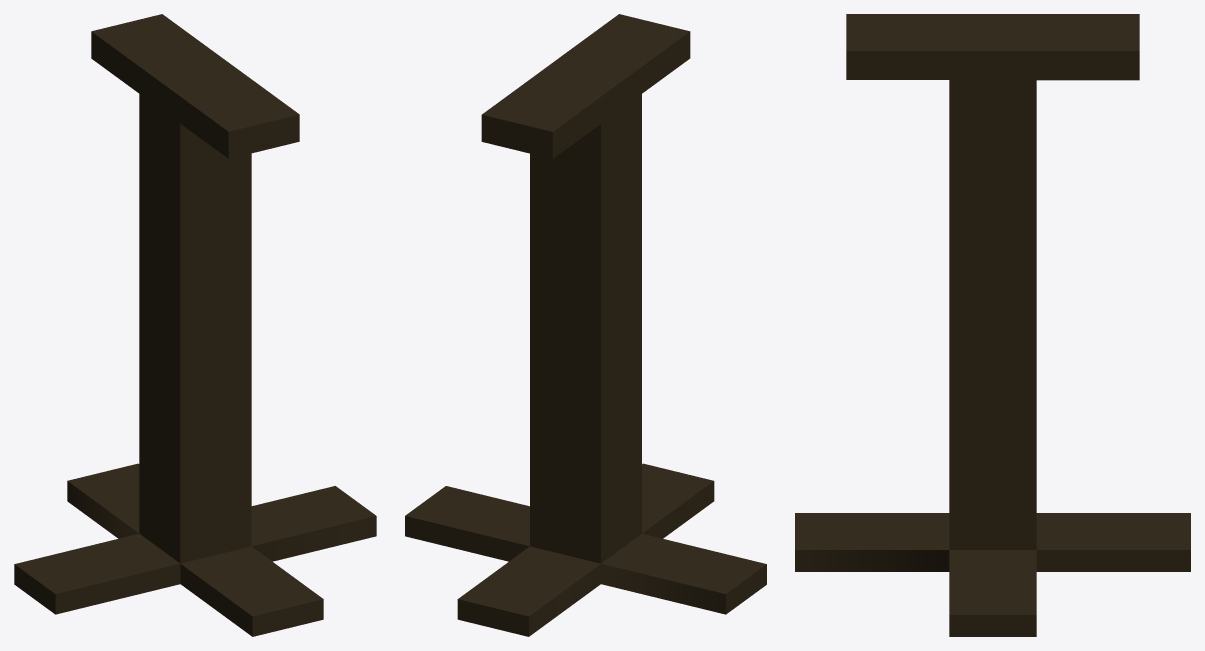
3 views of the same model, side by side, from view 1: azimuth 30°, elevation 25°; view 2: azimuth 150°, elevation 25°; view 3: azimuth 270°, elevation 25° (orthographic). The views are drawn at different scales.
Parts seen in each view (by area): view 1: Object019; view 2: Object019; view 3: Object019.
Boxes of the visible parts, x1=… form: Object019: x1=14, y1=14, x2=376, y2=636; Object019: x1=405, y1=14, x2=766, y2=636; Object019: x1=795, y1=14, x2=1190, y2=636.
Size of the model in its own units: 0.5046 by 0.7324 by 0.5046.
